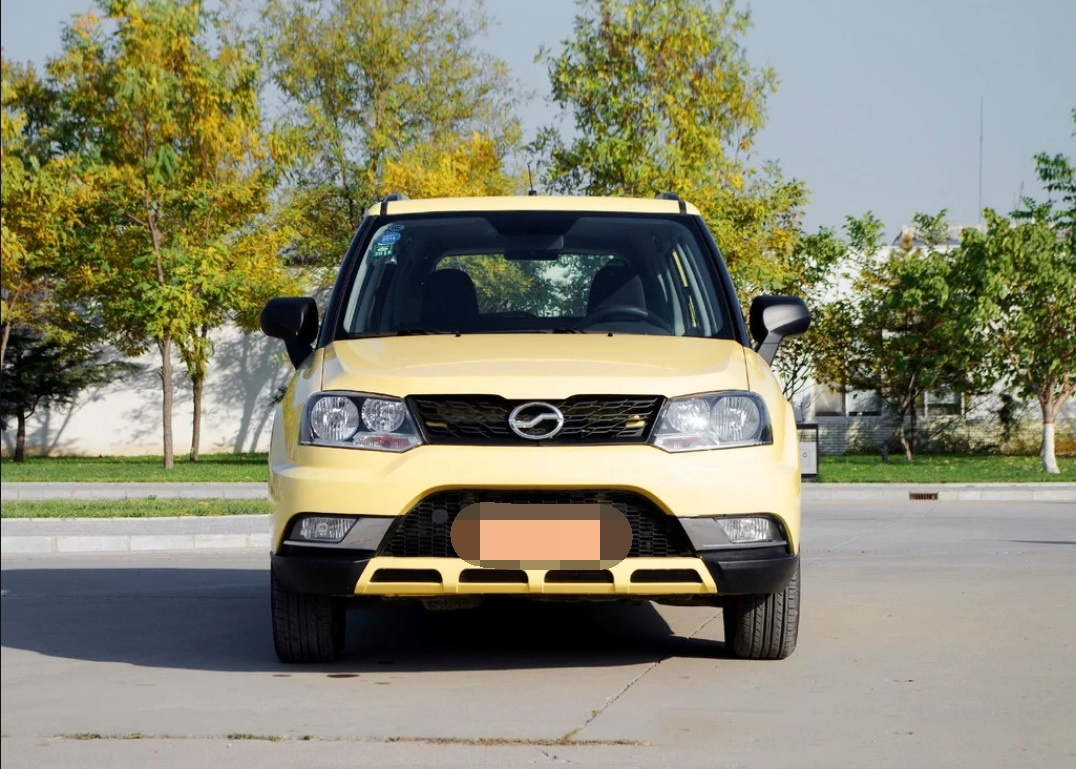SUV: (251, 179, 825, 649)
